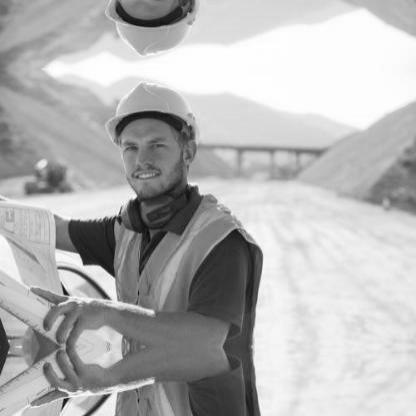helmet: (91, 75, 211, 206), (91, 0, 212, 64)
